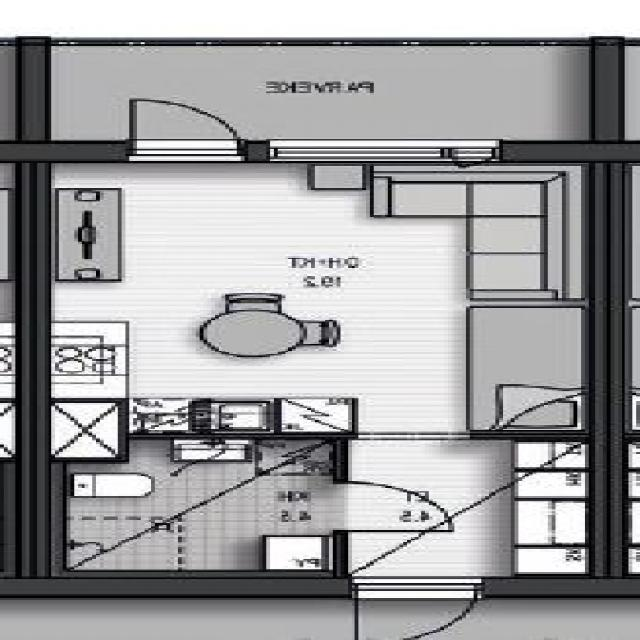door: (132, 92, 238, 162), (334, 480, 457, 530)
